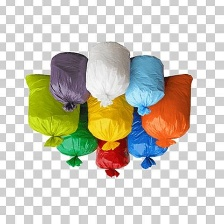plastic_bag: (21, 71, 81, 147), (138, 72, 195, 147), (49, 101, 99, 170), (81, 90, 136, 152), (84, 39, 132, 108), (124, 106, 172, 171), (46, 48, 91, 115), (121, 51, 166, 118), (90, 133, 132, 180)
